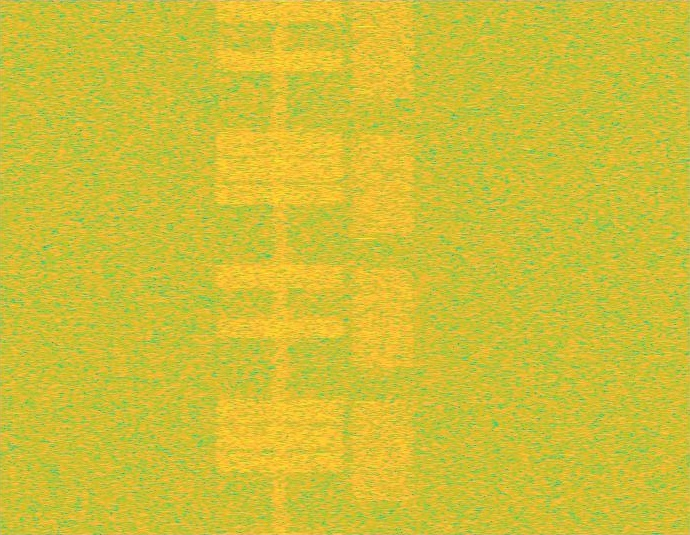5G: (349, 0, 418, 534)
DSSS: (271, 0, 289, 534)
LTE: (211, 0, 349, 534)
Radar: (359, 0, 373, 534)
